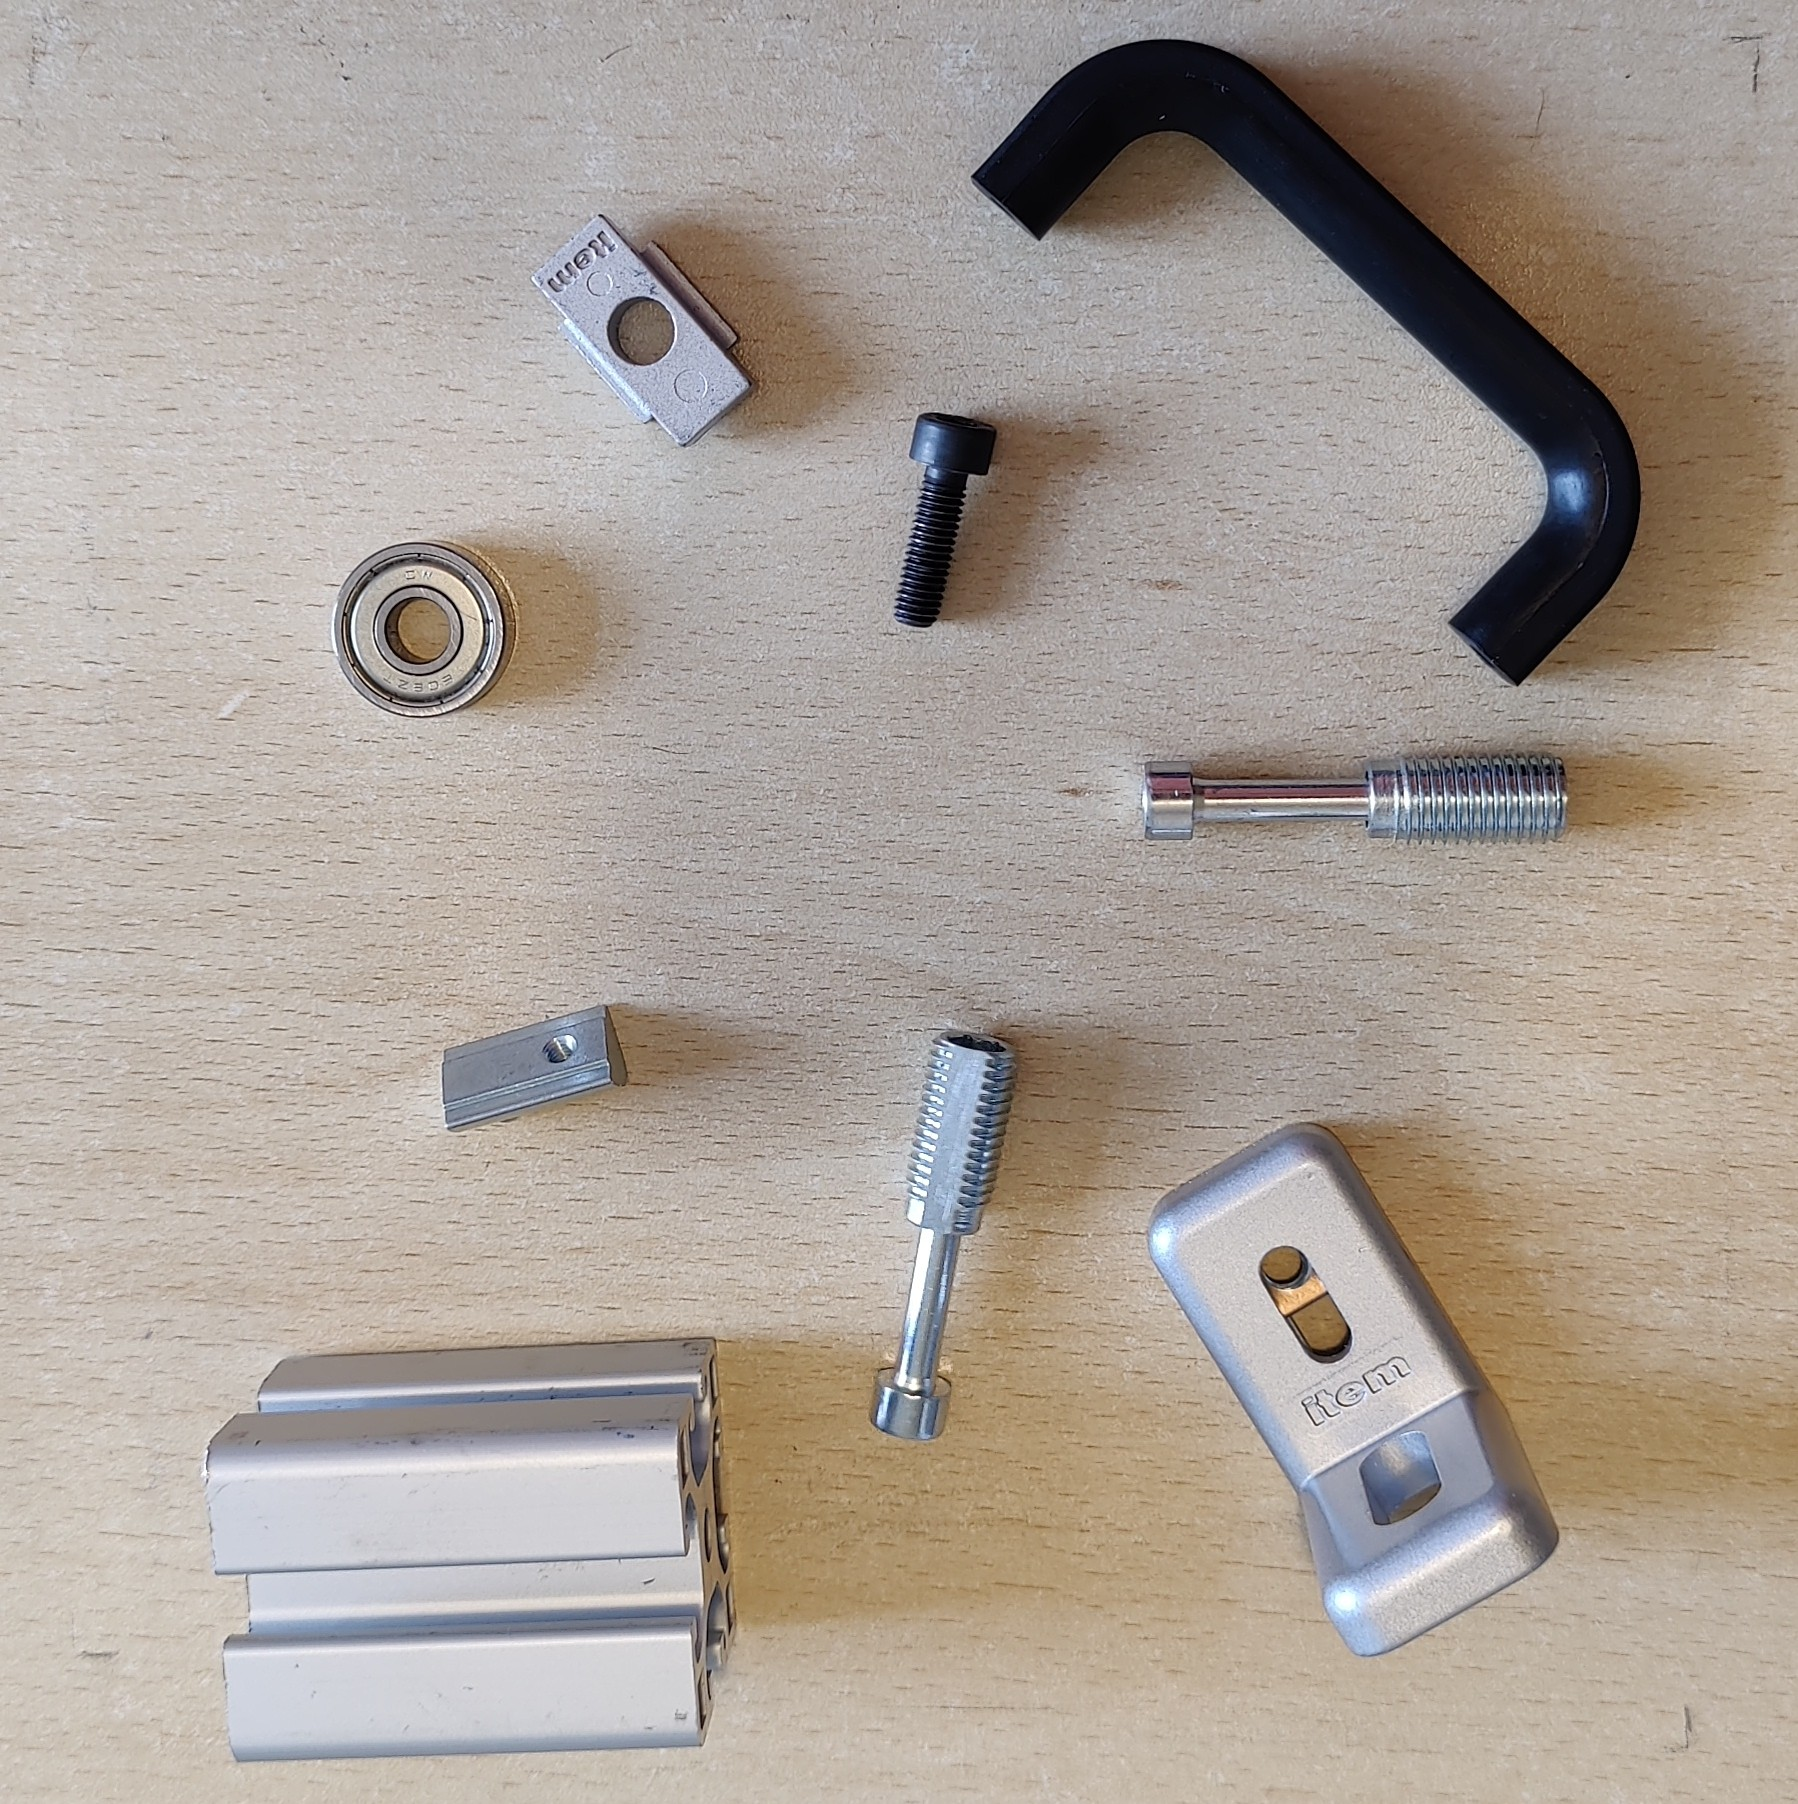Aluminium Extension: (203, 1330, 738, 1764)
Ball Bearing: (329, 538, 520, 721)
Multiwinkel: (1144, 1123, 1563, 1659)
Pull Handle: (970, 36, 1643, 686)
Shoulder Socket Head Cap Screw: (864, 1027, 1019, 1442), (1139, 747, 1572, 848)
Socket Head Cap Screw: (892, 411, 999, 630)
T Nut Square: (529, 207, 761, 449)
T Spring Nut: (440, 1001, 631, 1134)
